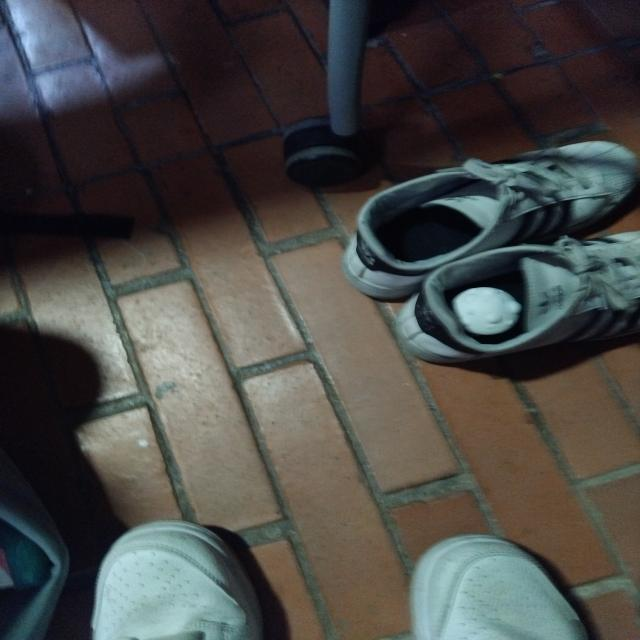Hongo: (438, 290, 534, 340)
